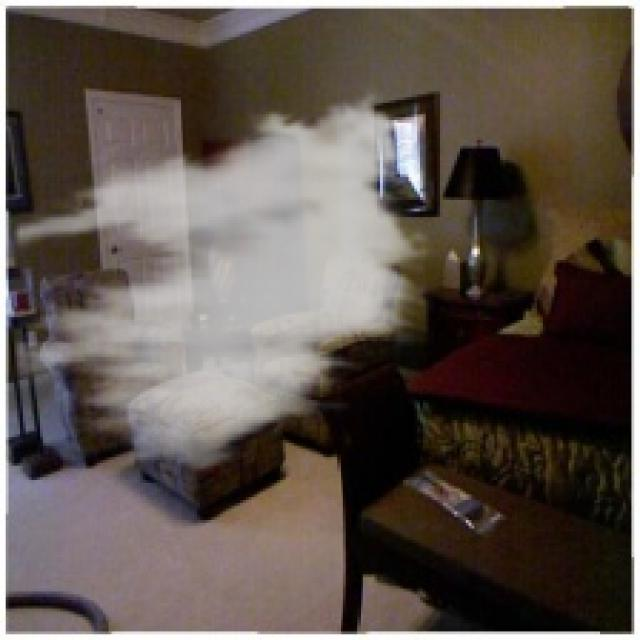smoke: (14, 83, 434, 483)
